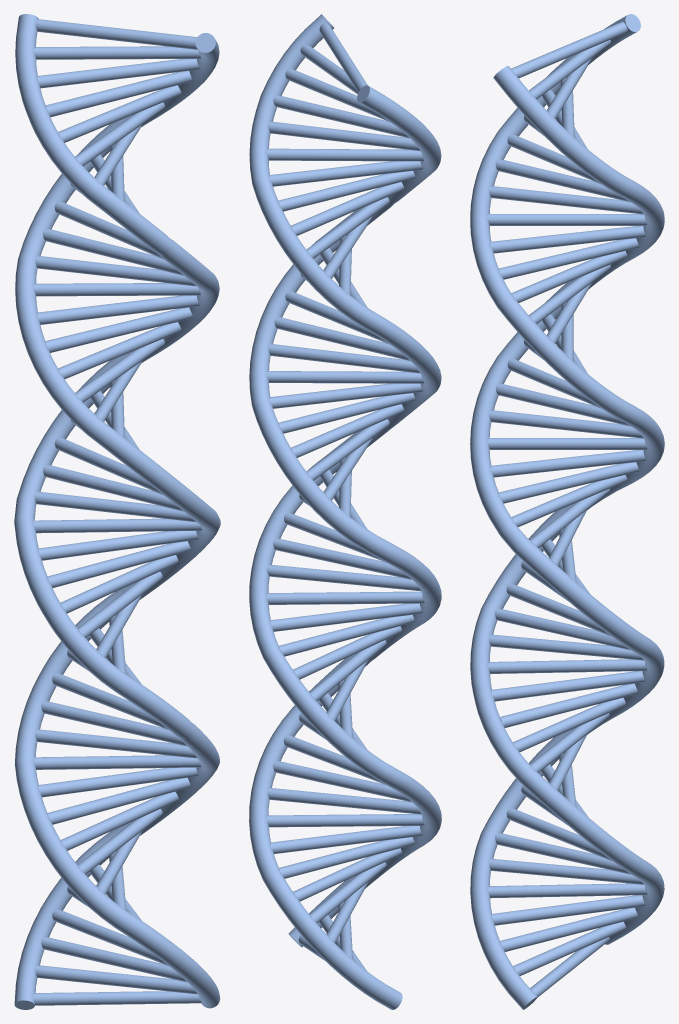
Rendered from dna.glb.
3 renders of one model, left to right at view 1: azimuth 30°, elevation 25°; view 2: azimuth 150°, elevation 25°; view 3: azimuth 270°, elevation 25°, orthographic. The views are drawn at different scales.
Visible parts, largest first — view 1: node-0; view 2: node-0; view 3: node-0.
Part boxes in pixels (x1,y1,x2,y2): node-0: (14,14,220,1009); node-0: (249,14,441,1009); node-0: (470,14,664,1009).
Bounding box in the file's own units: 1.94 × 10.25 × 1.93.
